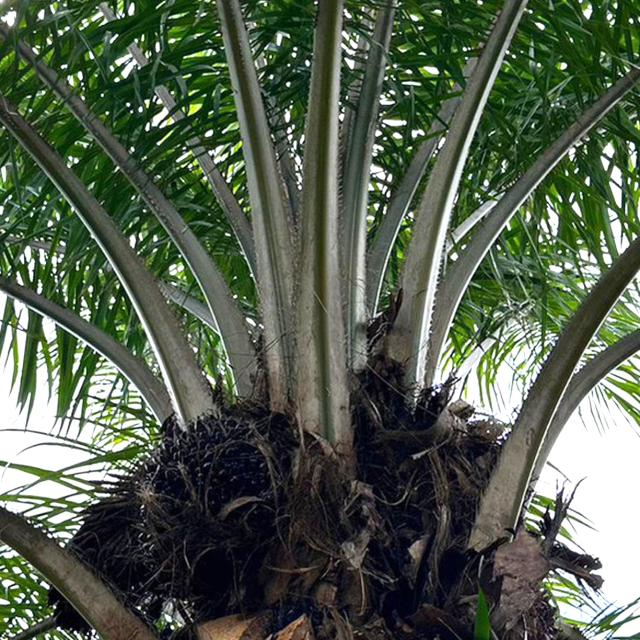almost: (148, 414, 301, 551)
